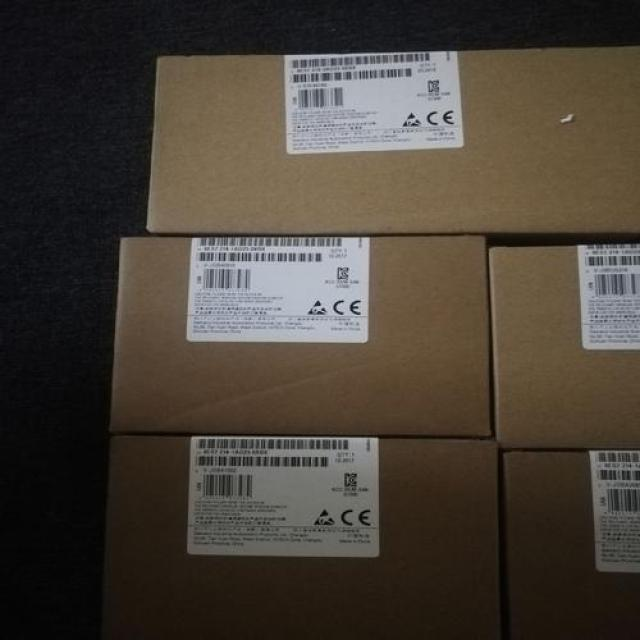box: (146, 45, 640, 234), (104, 434, 504, 640), (110, 236, 494, 438), (486, 243, 640, 449), (499, 449, 640, 640)
